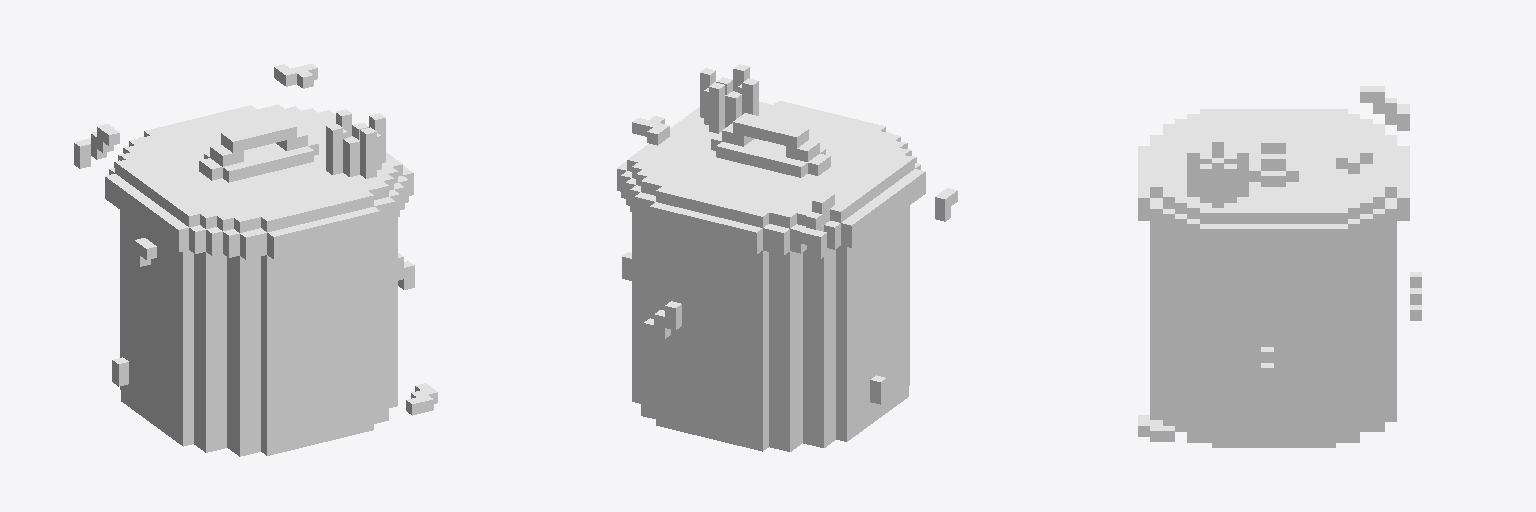
Rendered from KingofKaYaboommmm.obj.
3 renders of one model, left to right at view 1: azimuth 30°, elevation 25°; view 2: azimuth 150°, elevation 25°; view 3: azimuth 270°, elevation 25°, orthographic.
Parts seen in each view (by area): view 1: object 1; view 2: object 1; view 3: object 1.
Boxes of the visible parts, box(x1,y1,x2,y2) form: object 1: box(74, 64, 437, 456); object 1: box(617, 64, 957, 451); object 1: box(1138, 86, 1421, 447).
Bounding box in the file's own units: 2.8 × 2.5 × 2.3.